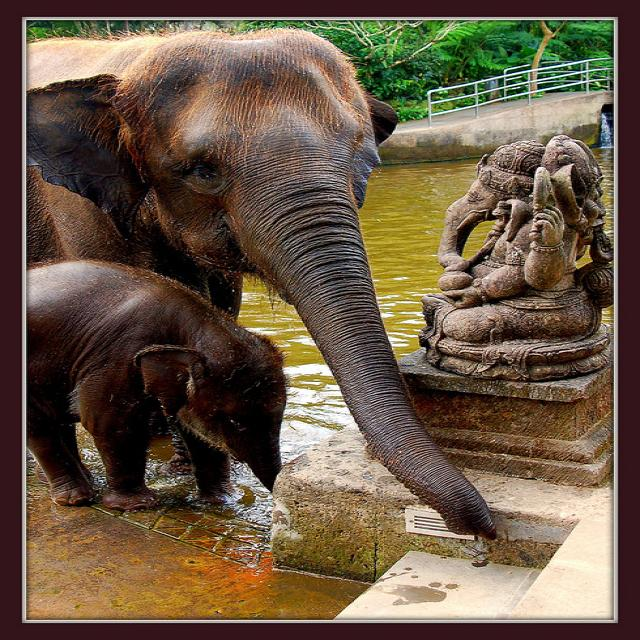Elephant: (26, 26, 496, 539), (26, 257, 287, 511)
